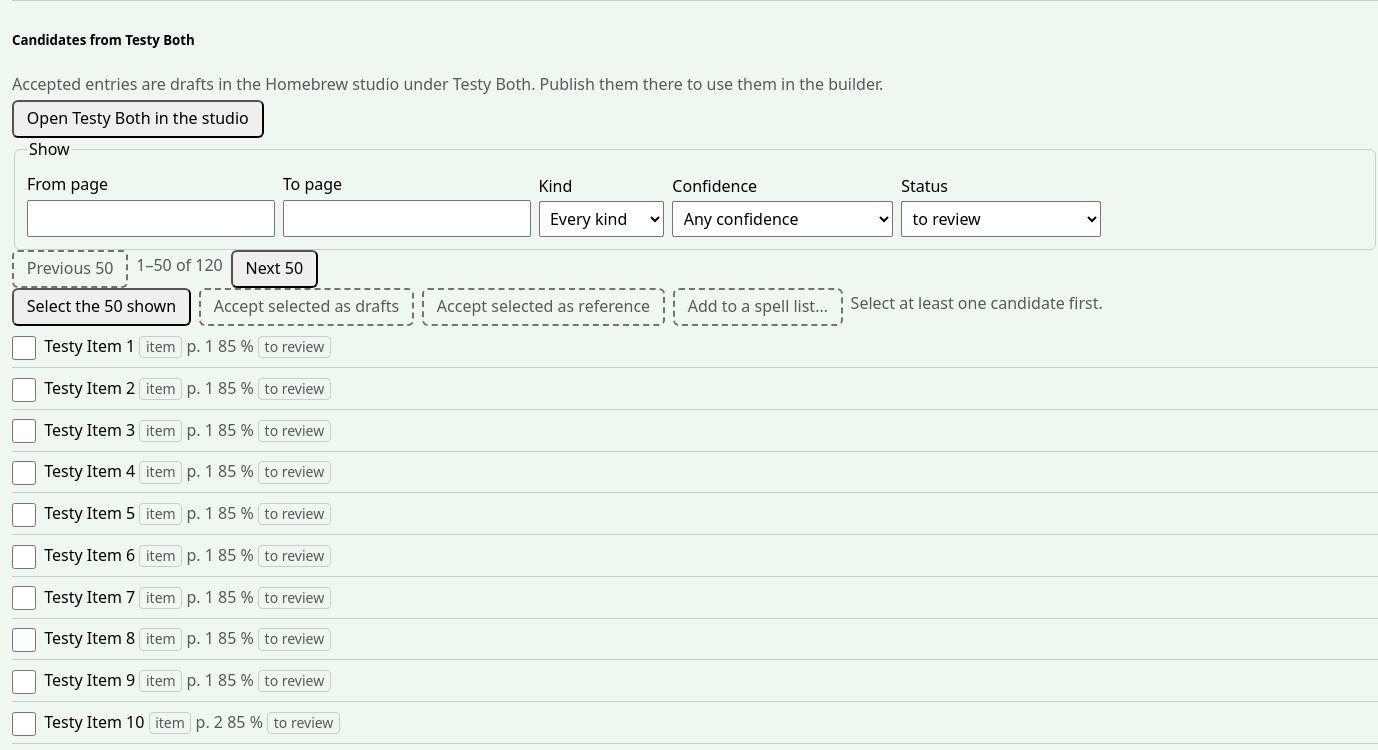
Scenario: pages at 50 with Previous 50 and Next 50, held (not disabled) at the ends
The width and height of the screenshot is (1378, 750).
Click the button "Previous 50": (70, 269) [12,250,128,288]
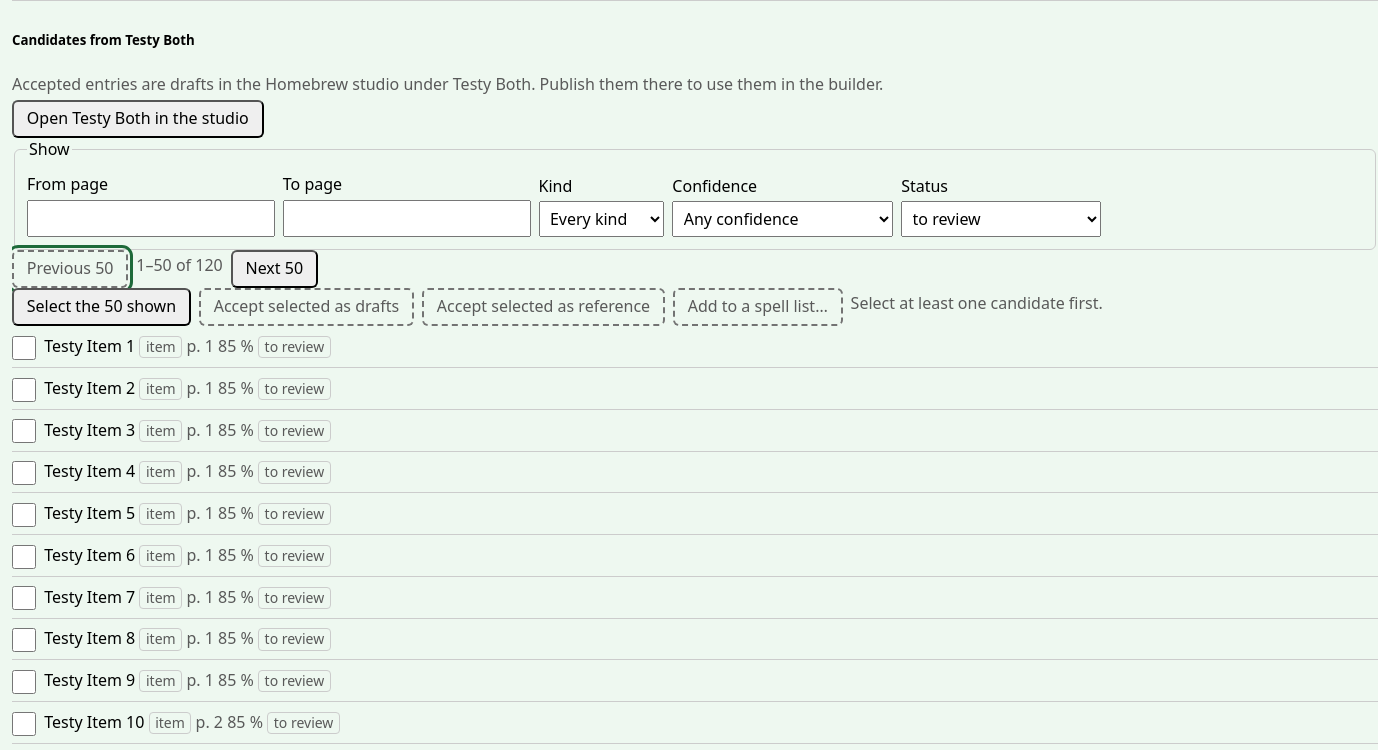
Click the button "Next 50": (274, 269) [231,250,318,288]
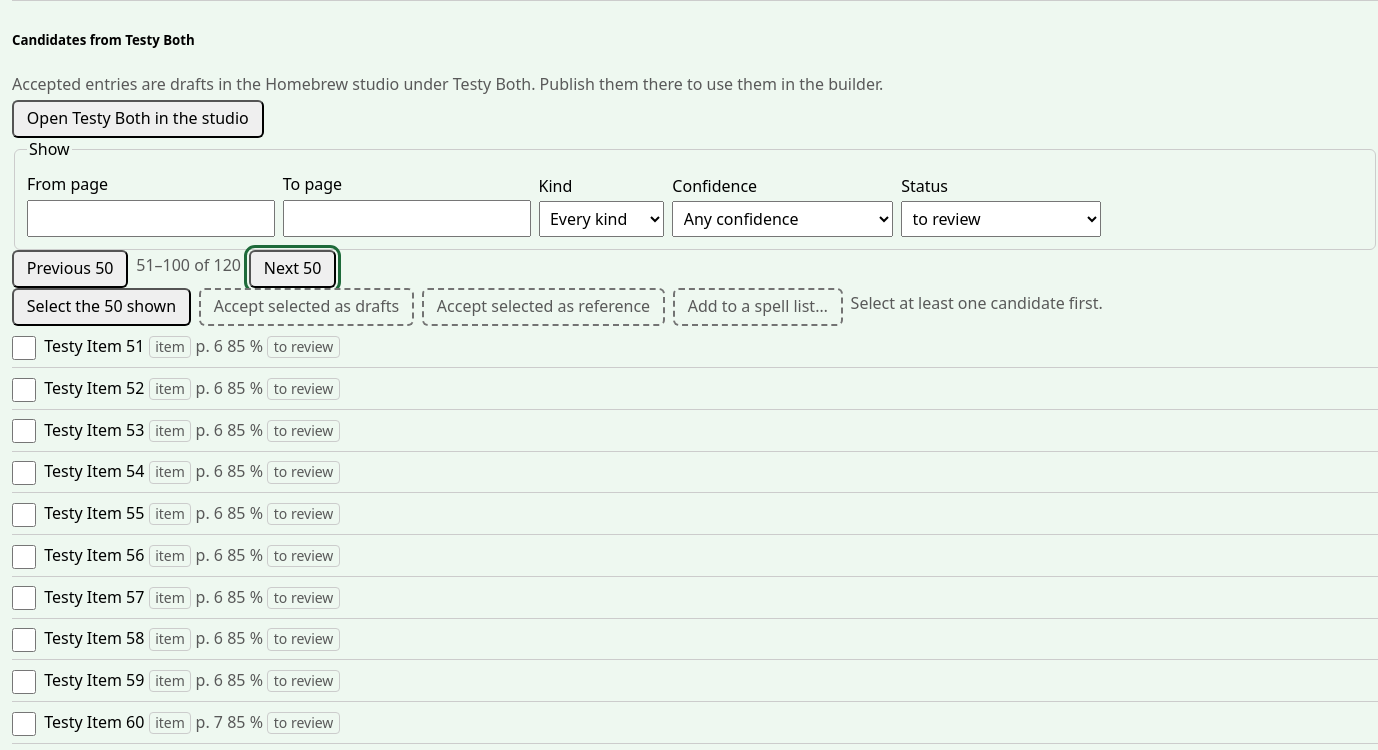
Expected: the button "Testy Item 51" is shown, [44,332,144,361]
Click the button "Next 50": (293, 269) [249,250,336,288]
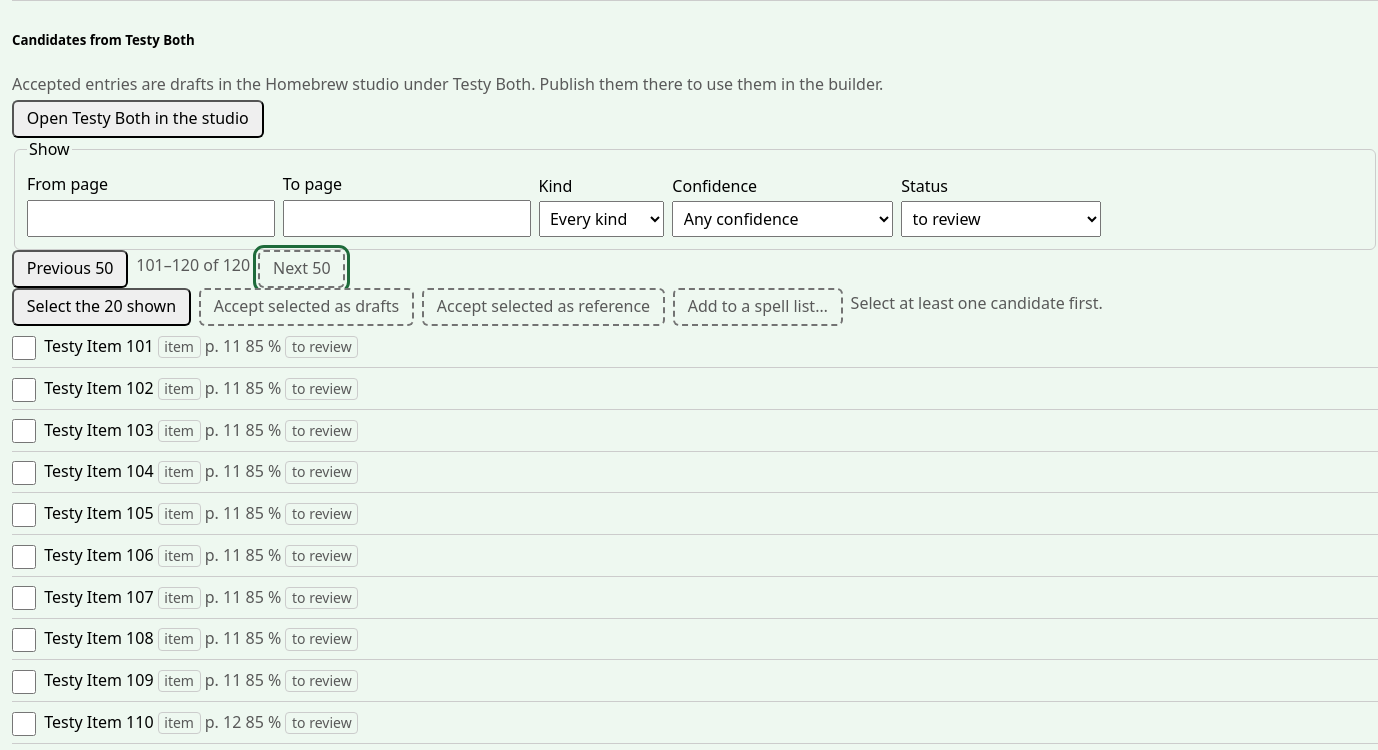
Expected: the button "Testy Item 101" is shown, [44,332,154,361]
Expected: the number of list items is 20
Click the button "Previous 50": (70, 269) [12,250,128,288]
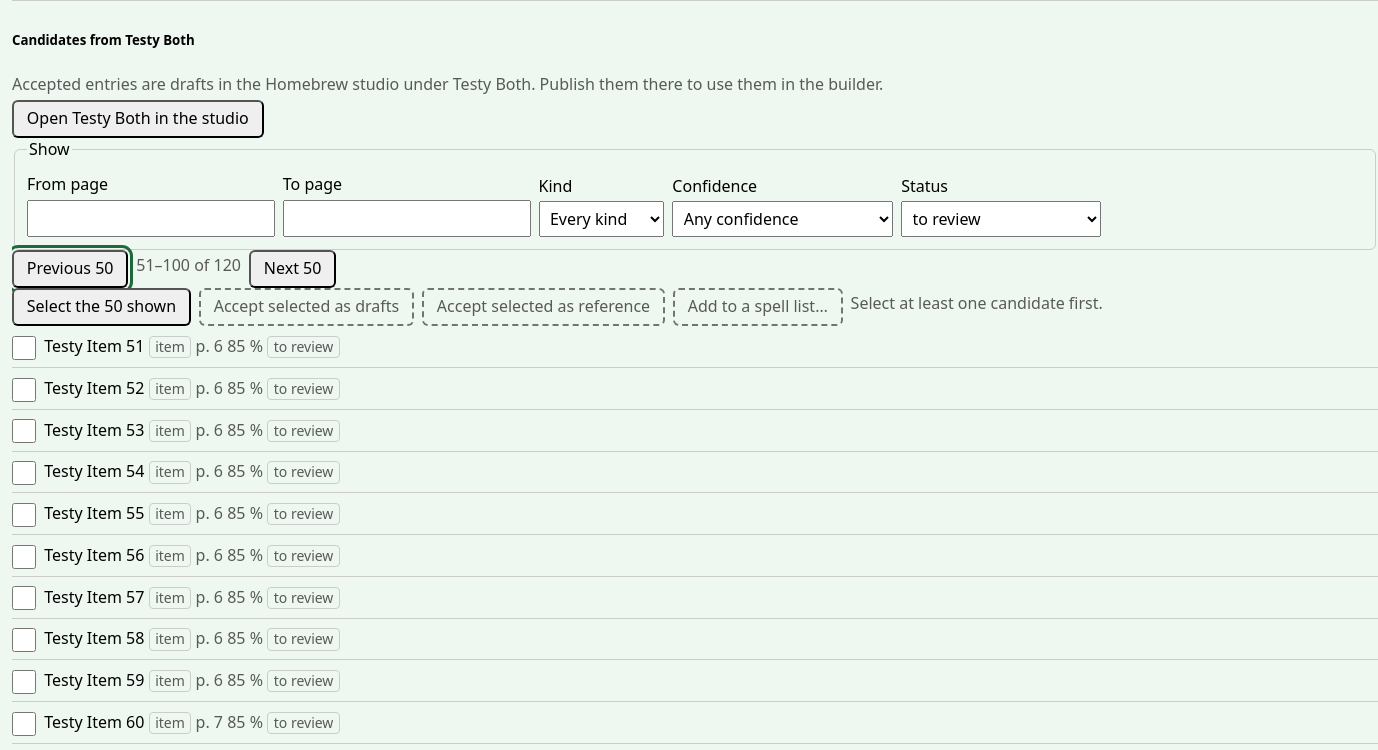
Expected: the button "Testy Item 51" is shown, [44,332,144,361]
